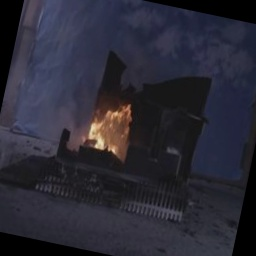fire: (81, 88, 148, 163)
